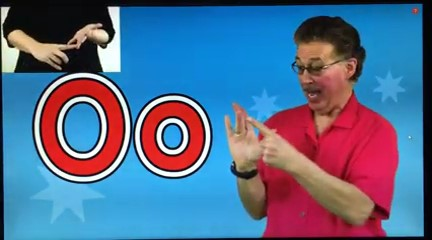O: (218, 98, 296, 179)
